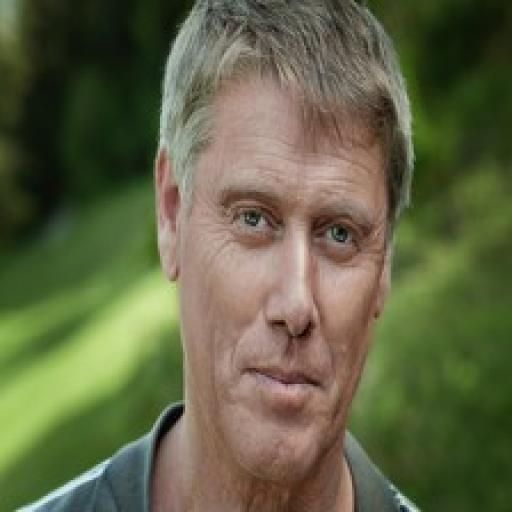human: (0, 2, 510, 512)
